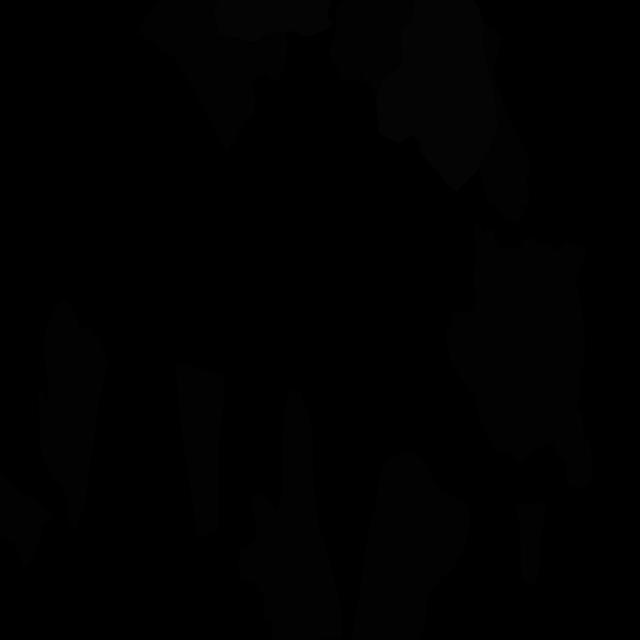cardboard: (446, 224, 594, 487), (238, 389, 342, 640), (352, 452, 470, 640), (139, 0, 255, 153), (38, 298, 108, 529), (479, 20, 531, 224), (176, 362, 225, 538), (328, 0, 414, 96), (0, 473, 54, 570), (167, 13, 210, 106), (217, 33, 287, 89), (516, 501, 546, 585)
soft_plastic: (376, 0, 498, 192), (214, 0, 334, 43)
